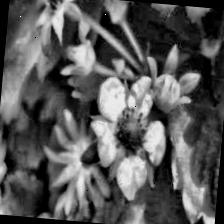Blossom Blight: (109, 104, 152, 162)
